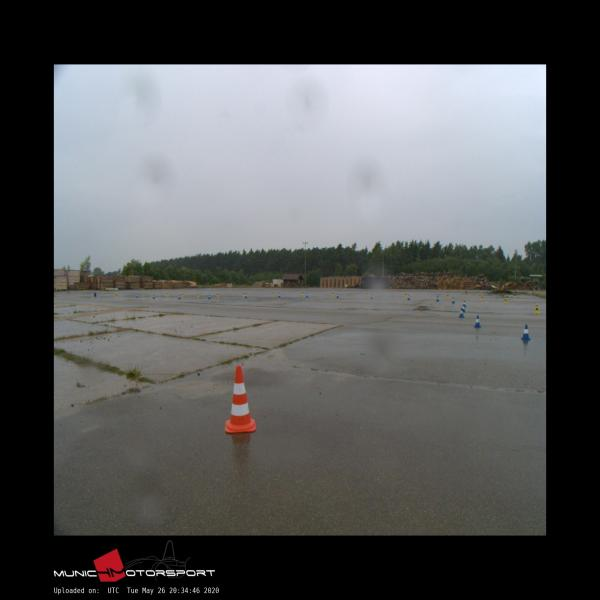blue_cone: (522, 324, 530, 339), (474, 314, 481, 326), (458, 308, 464, 316), (462, 300, 466, 308), (462, 304, 465, 313), (452, 297, 455, 303), (436, 296, 439, 301), (370, 294, 373, 299), (336, 293, 339, 298), (208, 294, 211, 299), (407, 295, 410, 299), (278, 293, 280, 298), (306, 293, 308, 297), (245, 294, 247, 298), (178, 295, 180, 299), (136, 294, 138, 298), (153, 295, 155, 298), (94, 290, 96, 293)
large_orange_cone: (225, 366, 256, 432)
yellow_cone: (534, 302, 538, 310), (535, 306, 539, 313), (216, 292, 220, 297), (504, 298, 507, 303), (481, 295, 484, 300), (366, 292, 369, 296), (272, 292, 275, 296), (166, 292, 169, 296), (332, 291, 334, 296), (181, 293, 184, 296), (447, 294, 449, 298), (405, 292, 407, 296), (302, 291, 304, 295), (243, 292, 245, 296), (197, 292, 199, 296), (115, 290, 117, 293)
